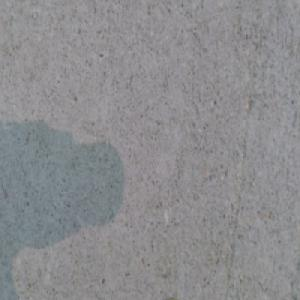Washer: (160, 290, 182, 299)
